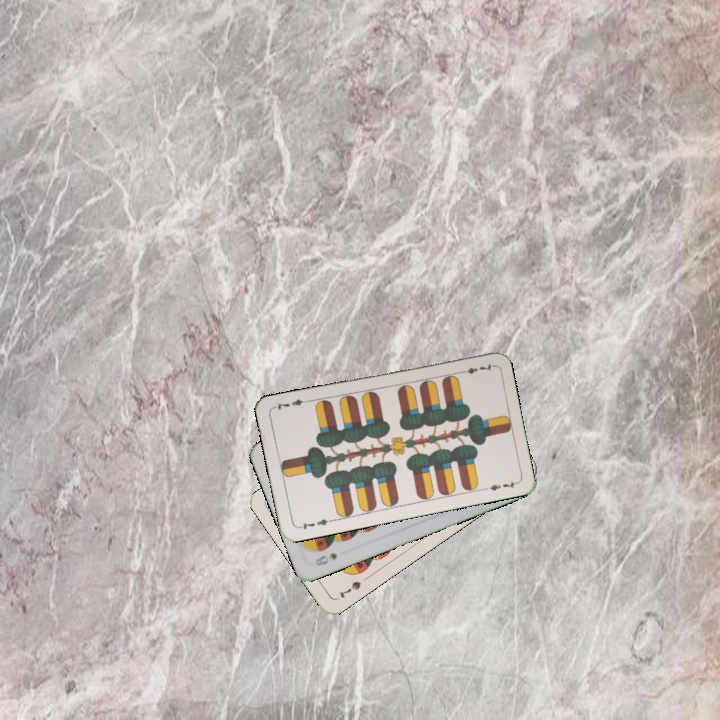E7: (455, 359, 495, 377), (294, 515, 334, 532)
S7: (335, 577, 363, 601)
S8: (311, 549, 340, 569)
